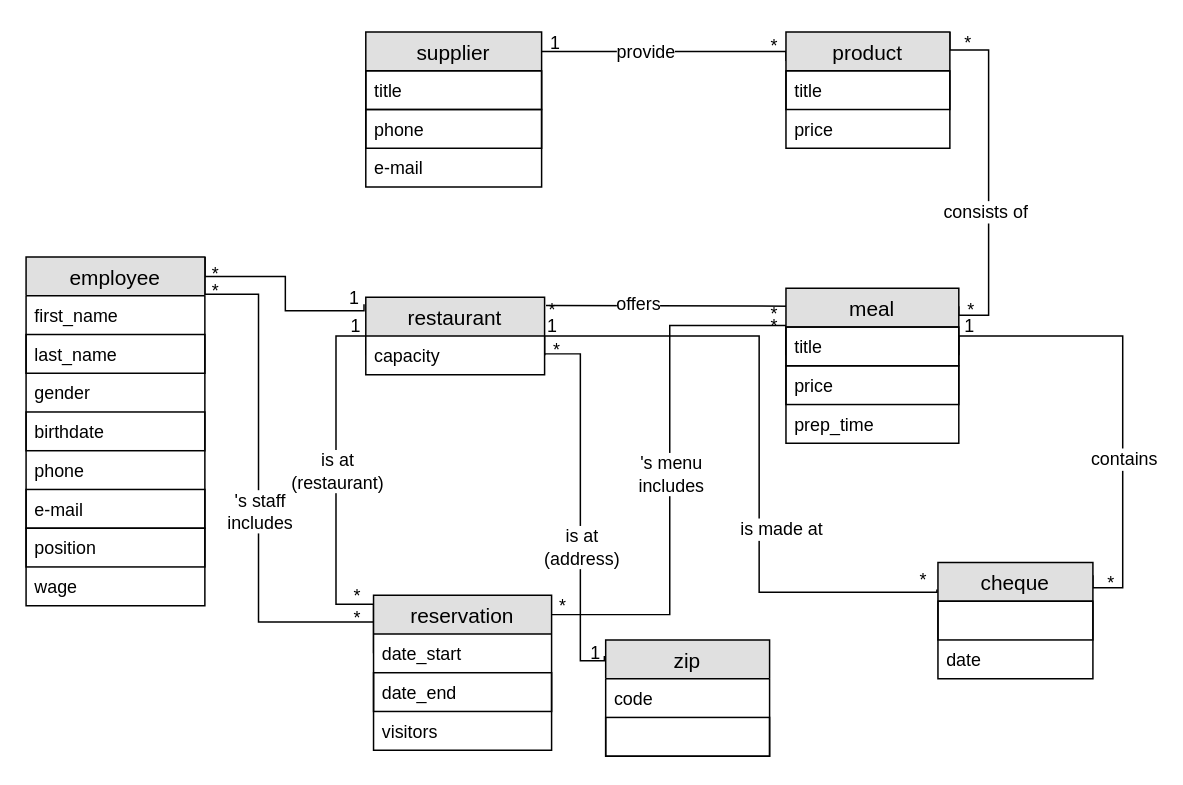
The diagram is 1183 pixels wide and 785 high, and some of its shapes have lost their labels. Each missing label, with the centre of its shape:
amount: the point at 1014,620
state: the point at 687,736
